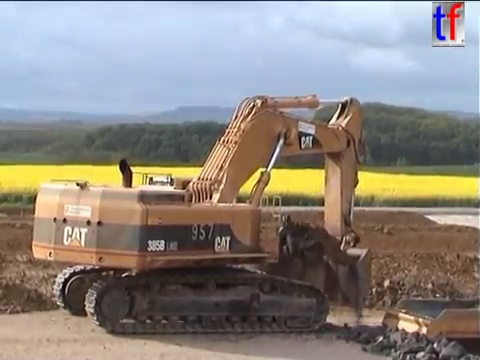excavator: (27, 90, 377, 339)
truck: (379, 291, 480, 360)
